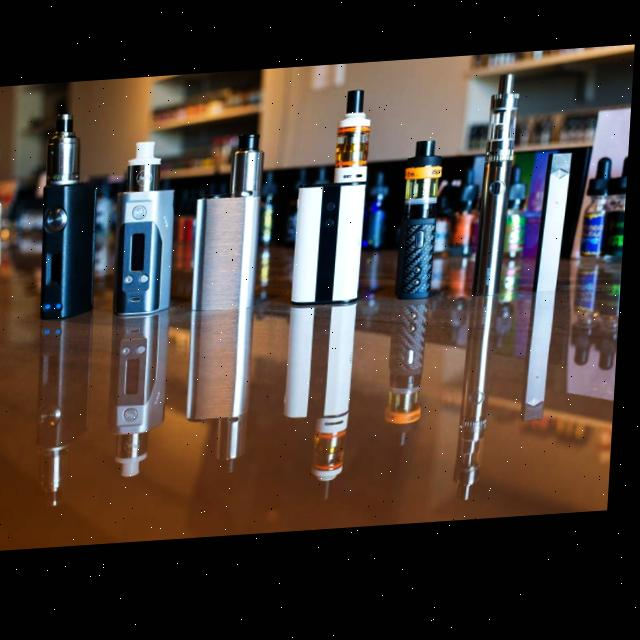vape: (294, 94, 373, 312), (285, 309, 361, 509), (39, 113, 106, 321), (195, 136, 267, 315), (114, 142, 182, 318), (36, 317, 97, 510), (189, 313, 259, 480), (109, 312, 175, 481), (475, 81, 522, 304), (458, 303, 498, 509), (399, 146, 446, 307), (388, 305, 434, 454), (536, 161, 574, 301), (526, 299, 560, 430)
